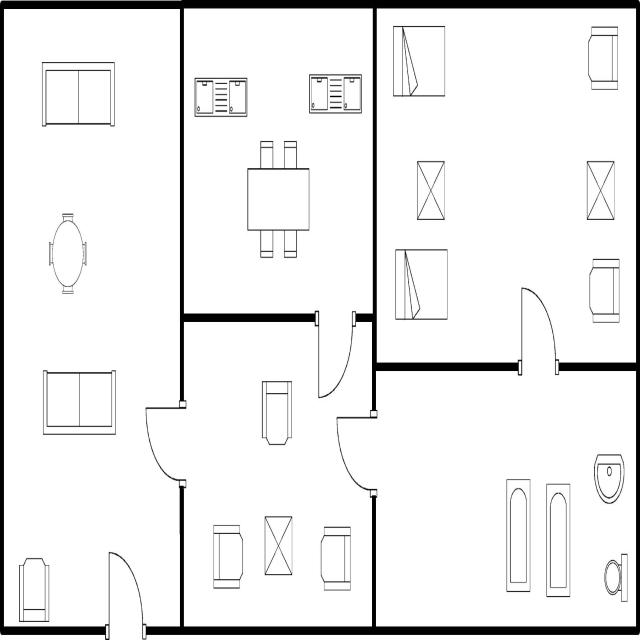armchair: (584, 248, 622, 331), (316, 517, 354, 598), (258, 373, 295, 454), (210, 517, 247, 598), (585, 19, 621, 99), (15, 549, 52, 626)
bed: (392, 236, 451, 330), (389, 17, 450, 101)
coffee_table: (583, 154, 621, 231), (260, 508, 296, 584), (413, 154, 448, 228)
dining_table: (244, 136, 312, 264)
large_sink: (601, 548, 631, 612)
large_sofa: (38, 56, 119, 136), (39, 366, 119, 444)
round_table: (44, 204, 91, 300)
small_sink: (589, 445, 627, 510)
tub: (503, 471, 534, 600), (543, 475, 573, 604)
twin_sink: (192, 68, 250, 125), (306, 68, 368, 121)
